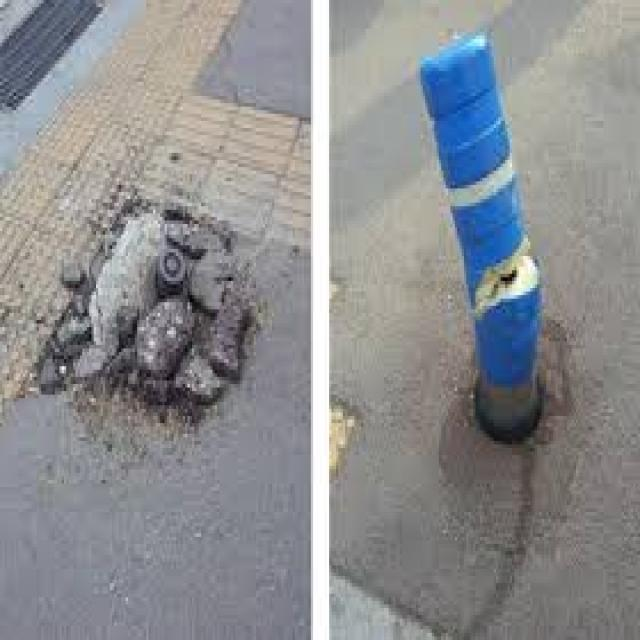bollard: (414, 25, 564, 448)
